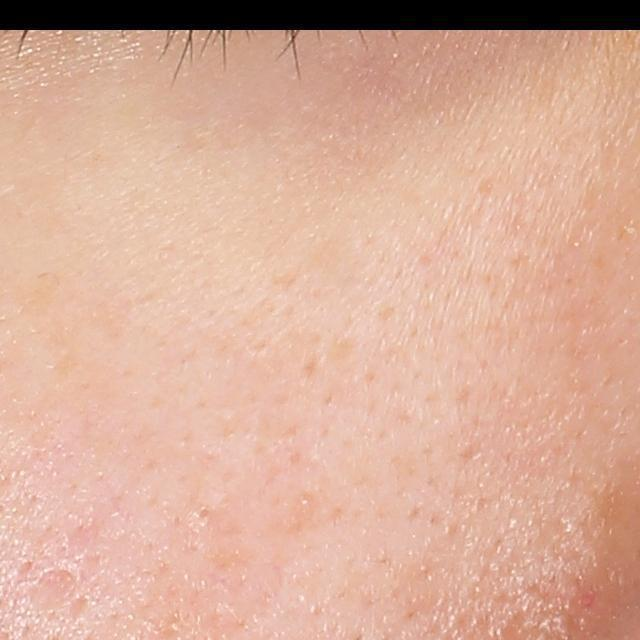atrophic_scar: (26, 563, 82, 614)
comedo: (194, 499, 219, 524)
